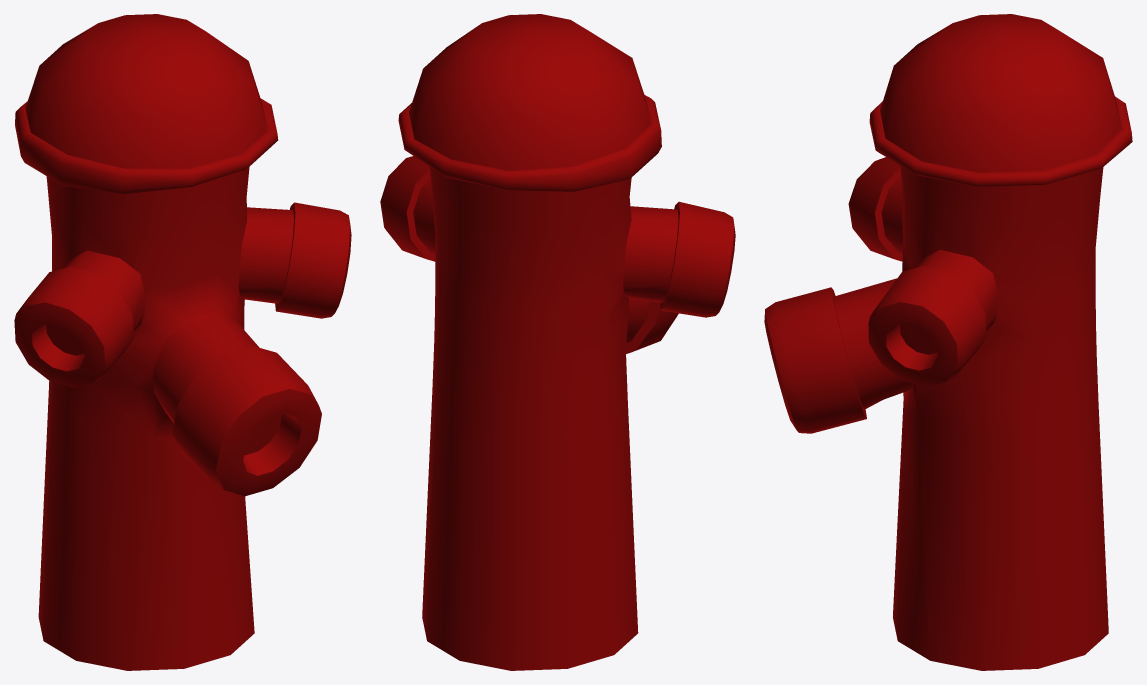
File: Bouche_Incendie.FBX
The picture shows the model from 3 angles, left to right: view 1: azimuth 30°, elevation 25°; view 2: azimuth 150°, elevation 25°; view 3: azimuth 270°, elevation 25°; orthographic projection.
Visible parts, largest first — view 1: Bouche_Incendie; view 2: Bouche_Incendie; view 3: Bouche_Incendie.
Part boxes in pixels (x1,y1,x2,y2): Bouche_Incendie: (14, 14, 351, 670); Bouche_Incendie: (380, 14, 735, 670); Bouche_Incendie: (764, 14, 1132, 670).
Size of the model in its own units: 0.9305 by 1.57 by 0.8794.
